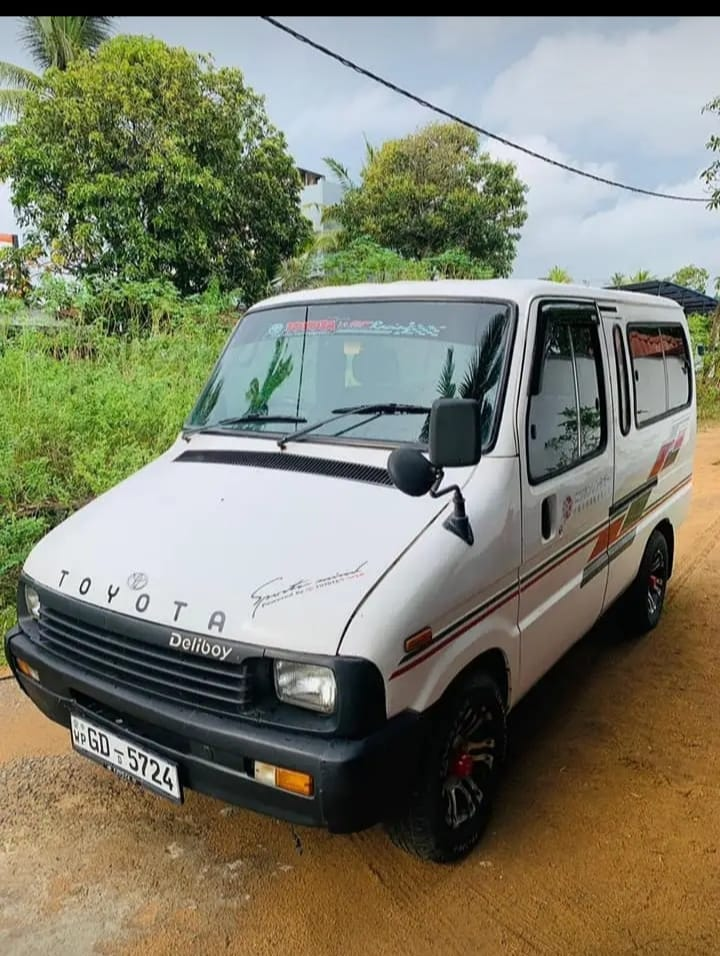number_plate: (65, 719, 182, 799)
